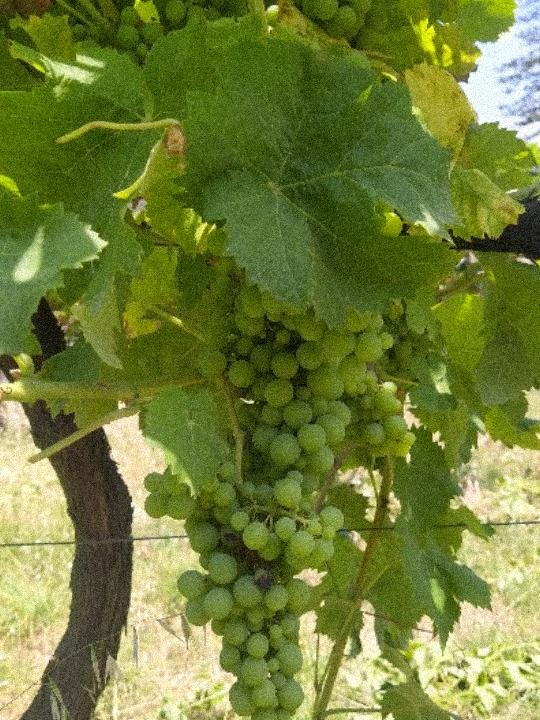grape: (142, 465, 348, 720), (192, 282, 420, 486), (56, 0, 230, 62), (281, 0, 422, 41)
